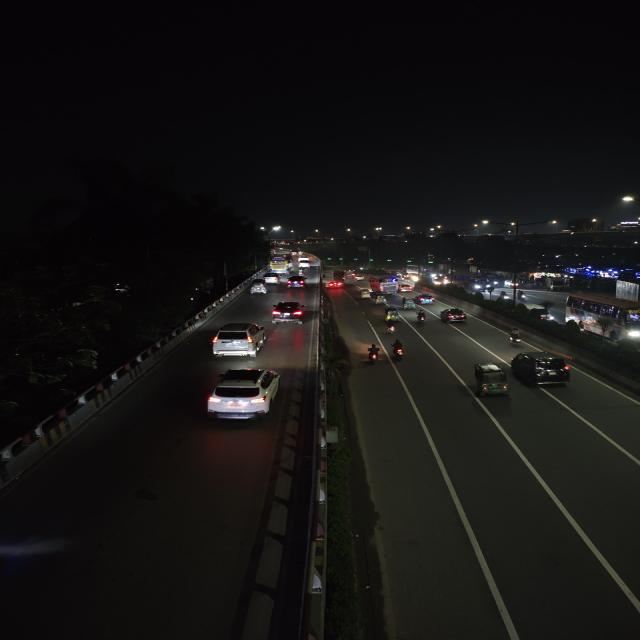bus: (566, 292, 640, 346), (456, 275, 490, 291), (269, 256, 291, 272), (376, 277, 398, 293), (338, 270, 359, 284), (368, 277, 383, 293)
car: (202, 365, 285, 425), (511, 349, 574, 388), (208, 320, 269, 360), (270, 300, 307, 324), (439, 306, 468, 324), (285, 275, 308, 289), (263, 272, 281, 286), (414, 294, 436, 304), (397, 282, 414, 294), (297, 260, 311, 270)
cng: (471, 361, 511, 400), (248, 280, 269, 297), (383, 307, 401, 322), (371, 293, 386, 306), (359, 288, 370, 300)
motorcycle: (364, 342, 383, 367), (504, 327, 526, 348), (390, 338, 408, 362), (383, 319, 400, 335), (414, 309, 428, 323), (402, 298, 412, 310), (518, 290, 530, 300)
truck: (546, 276, 567, 291)
